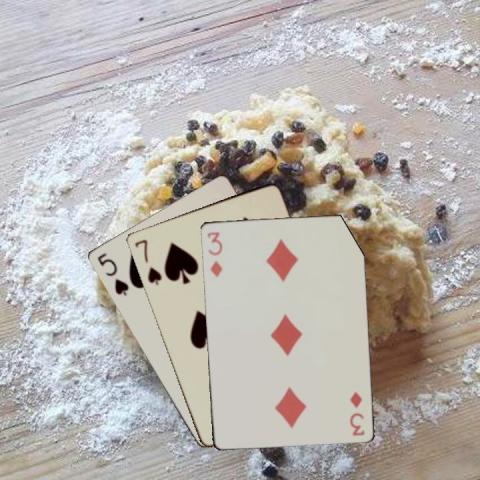3d: (204, 229, 223, 278), (347, 388, 365, 437)
5s: (94, 250, 130, 298)
7s: (132, 236, 164, 287)
